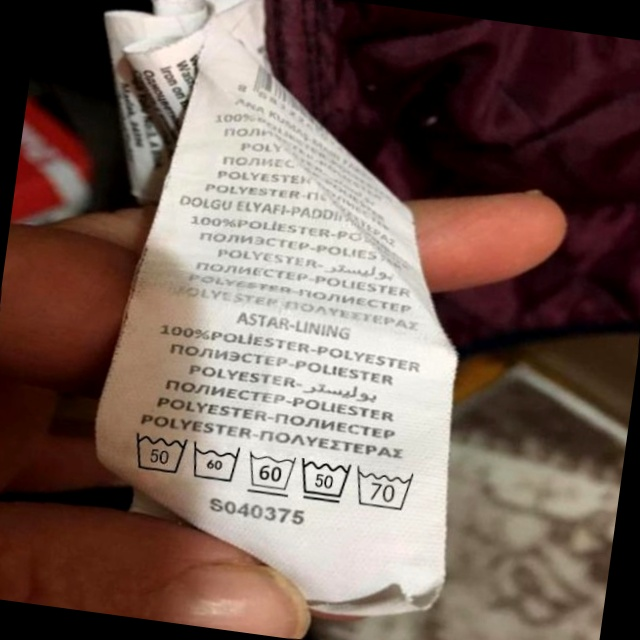50C: (124, 421, 195, 482), (293, 451, 358, 510)
60C: (185, 435, 248, 491), (242, 444, 303, 501)
70C: (351, 460, 423, 517)
